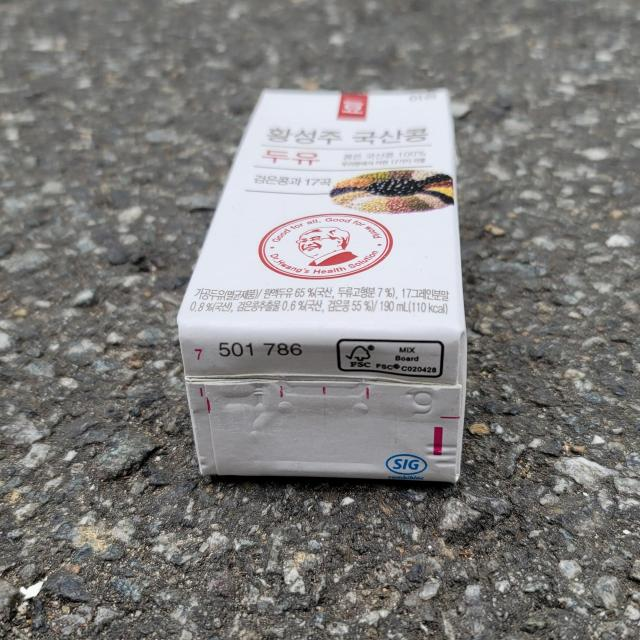paperpack: (177, 89, 467, 483)
